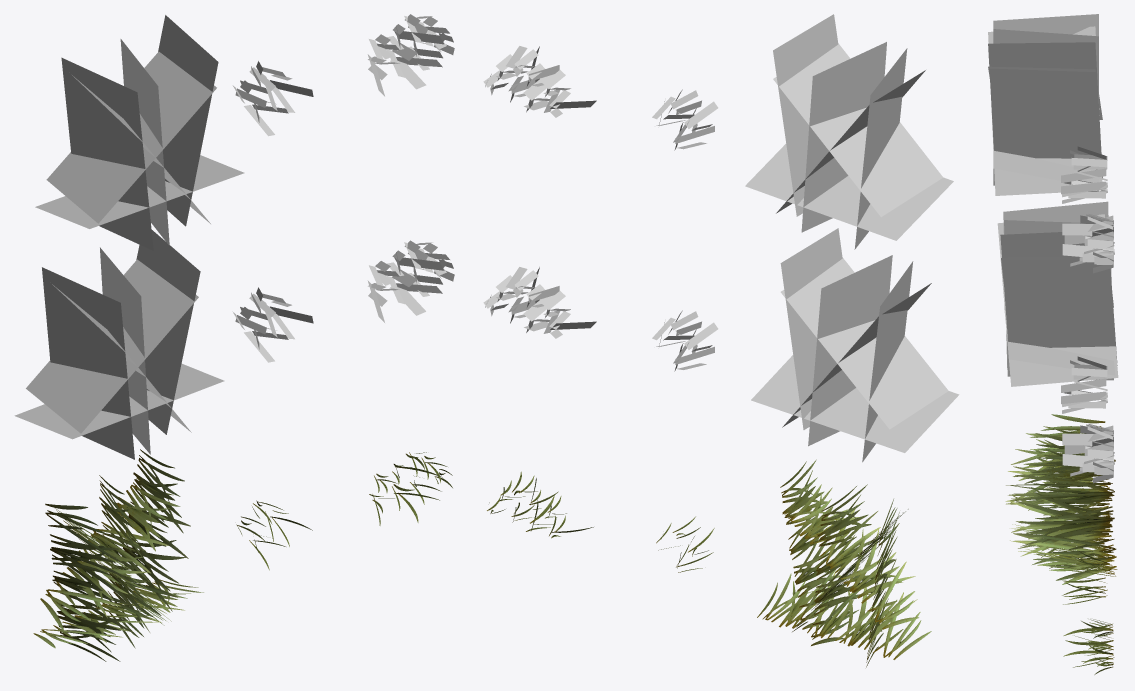
The model's file is grass_pack.fbx.
The picture shows the model from 3 angles, left to right: view 1: azimuth 30°, elevation 25°; view 2: azimuth 150°, elevation 25°; view 3: azimuth 270°, elevation 25°; orthographic projection. The views are drawn at different scales.
Parts seen in each view (by area): view 1: mid_tall_patch, yellow_tall_patch, green_tall_patch, green_alpha_tall_grass.002, green_alpha_tall_grass.000, green_alpha_tall_grass.003, green_alpha_tall_grass.001, green_alpha_tall_grass.032; view 2: yellow_tall_patch, mid_tall_patch, green_tall_patch, green_alpha_tall_grass.000, green_alpha_tall_grass.002, green_alpha_tall_grass.003, green_alpha_tall_grass.001, green_alpha_tall_grass.032; view 3: yellow_tall_patch, mid_tall_patch, green_tall_patch, green_alpha_tall_grass.000, green_alpha_tall_grass.002, green_alpha_tall_grass.001, green_alpha_tall_grass.003, green_alpha_tall_grass.032, green_alpha_tall_grass.039.
Part boxes in pixels (bbox=[...]): mid_tall_patch: bbox=[14, 230, 224, 459]; yellow_tall_patch: bbox=[35, 15, 244, 250]; green_tall_patch: bbox=[33, 449, 203, 661]; green_alpha_tall_grass.002: bbox=[367, 14, 454, 96]; green_alpha_tall_grass.000: bbox=[367, 240, 454, 322]; green_alpha_tall_grass.003: bbox=[232, 61, 313, 136]; green_alpha_tall_grass.001: bbox=[232, 287, 313, 362]; green_alpha_tall_grass.032: bbox=[369, 452, 452, 525]; yellow_tall_patch: bbox=[745, 14, 953, 249]; mid_tall_patch: bbox=[751, 228, 959, 462]; green_tall_patch: bbox=[757, 459, 931, 667]; green_alpha_tall_grass.000: bbox=[483, 267, 596, 338]; green_alpha_tall_grass.002: bbox=[483, 46, 596, 117]; green_alpha_tall_grass.003: bbox=[652, 89, 718, 150]; green_alpha_tall_grass.001: bbox=[652, 310, 718, 371]; green_alpha_tall_grass.032: bbox=[487, 471, 593, 538]; yellow_tall_patch: bbox=[988, 14, 1102, 195]; mid_tall_patch: bbox=[997, 201, 1118, 386]; green_tall_patch: bbox=[1005, 414, 1117, 584]; green_alpha_tall_grass.000: bbox=[1062, 423, 1114, 483]; green_alpha_tall_grass.002: bbox=[1062, 213, 1114, 273]; green_alpha_tall_grass.001: bbox=[1061, 356, 1107, 413]; green_alpha_tall_grass.003: bbox=[1061, 146, 1107, 203]; green_alpha_tall_grass.032: bbox=[1063, 619, 1114, 674]; green_alpha_tall_grass.039: bbox=[1062, 551, 1107, 604].
Bounding box in the file's own units: 2.77 × 3.74 × 0.7938.
